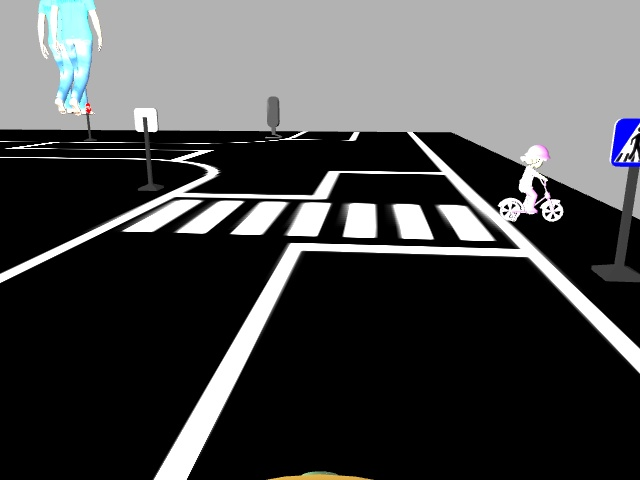Crosswalk: (608, 109, 639, 168)
Pedestrian: (497, 138, 566, 226)
